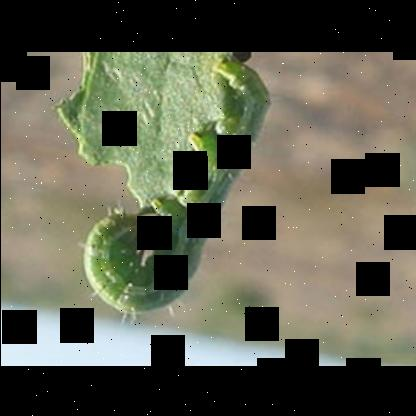agujero: (91, 158, 138, 188)
oruga: (76, 52, 280, 326)
